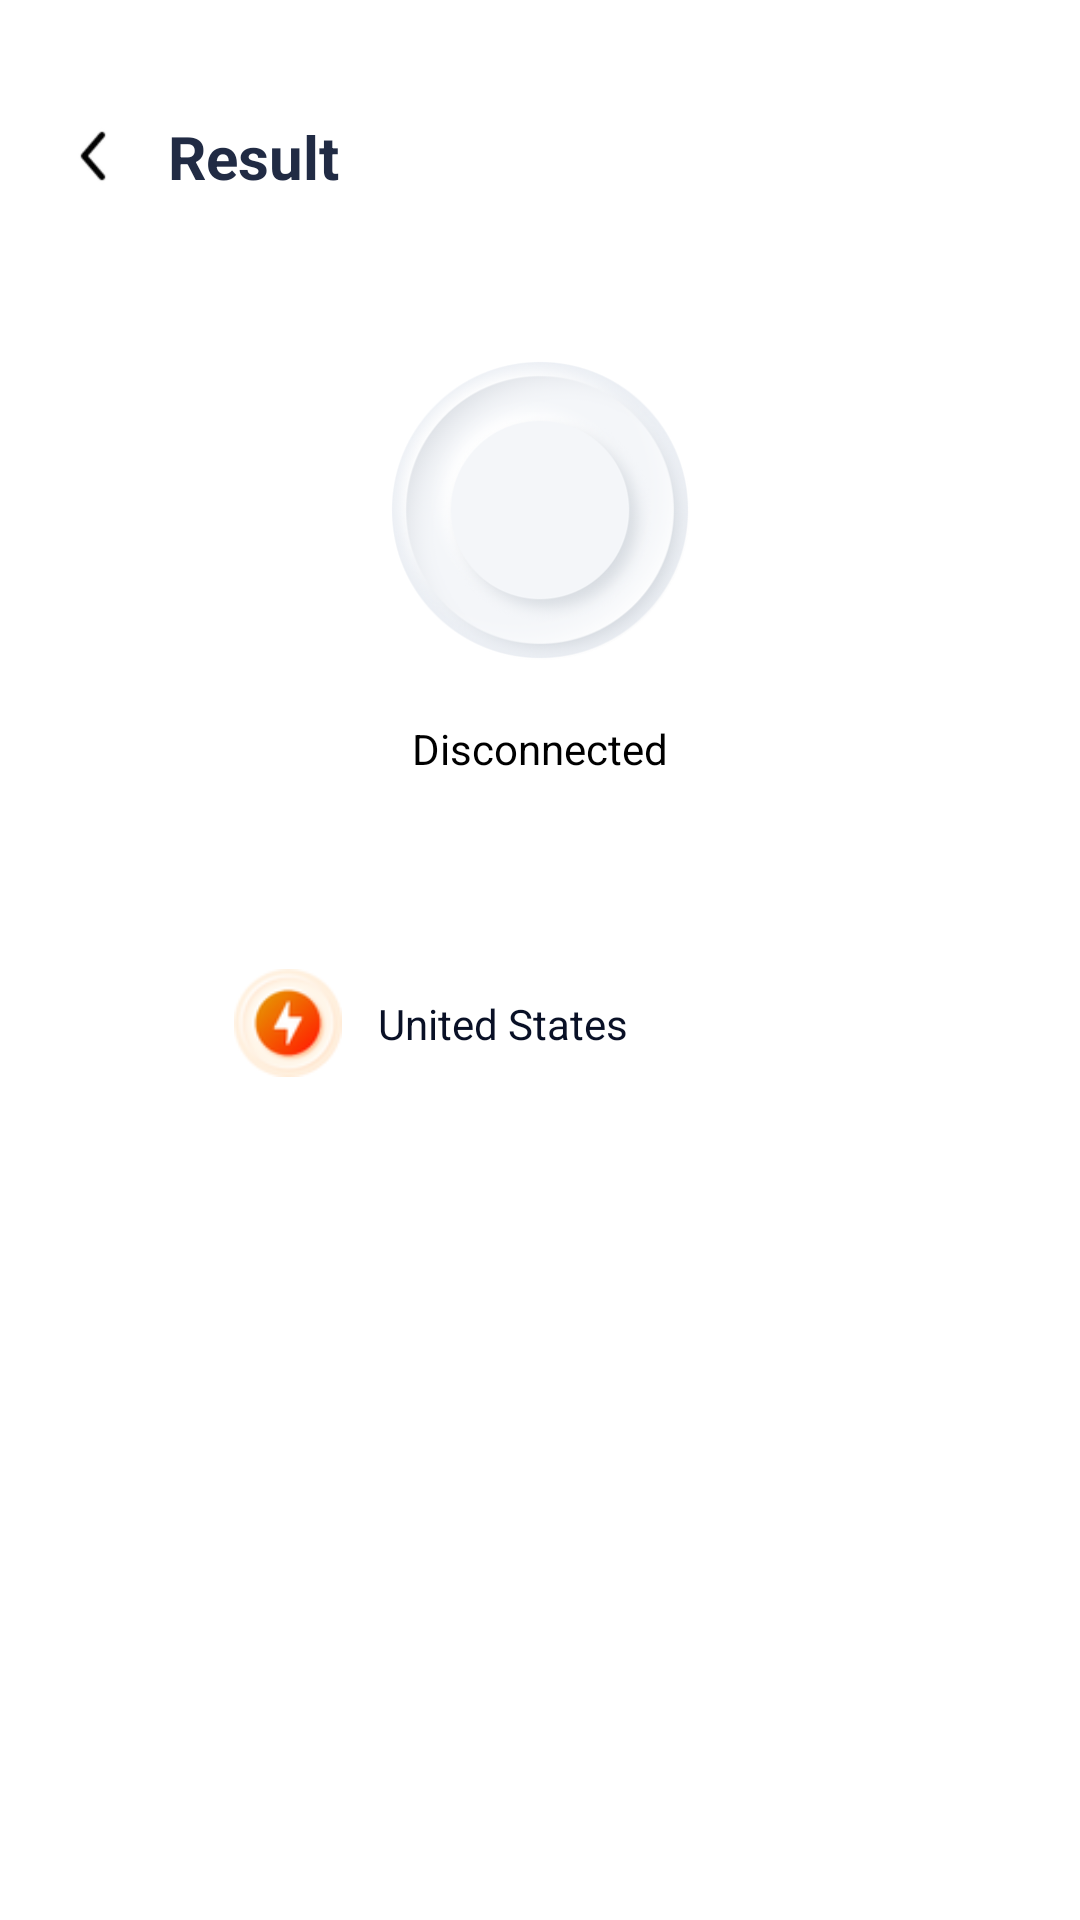

Screen size 1080x1920. Icon name, then its box in pixels as [x1,y1,x2,y2]:
flash return: [80,131,106,181]
